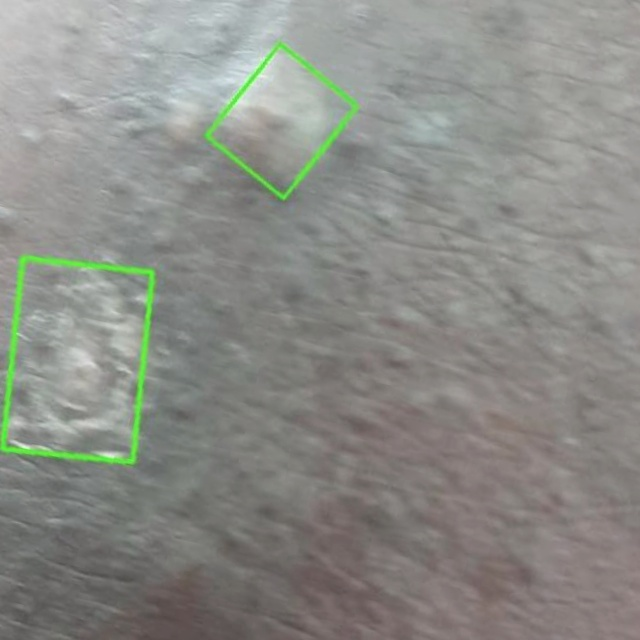Seborrheic Dermatitis: (3, 258, 153, 463), (206, 44, 357, 198)
